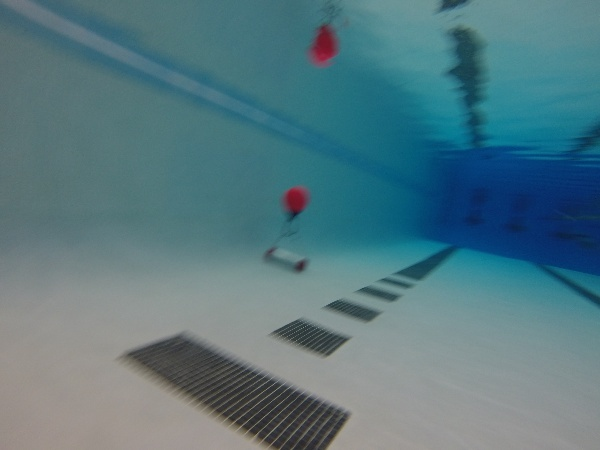buoy_red: (281, 185, 310, 220)
